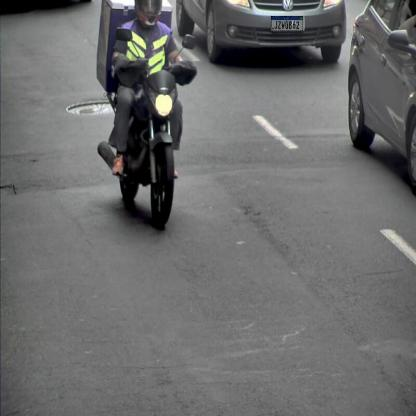PlacaM: (271, 16, 303, 31)
